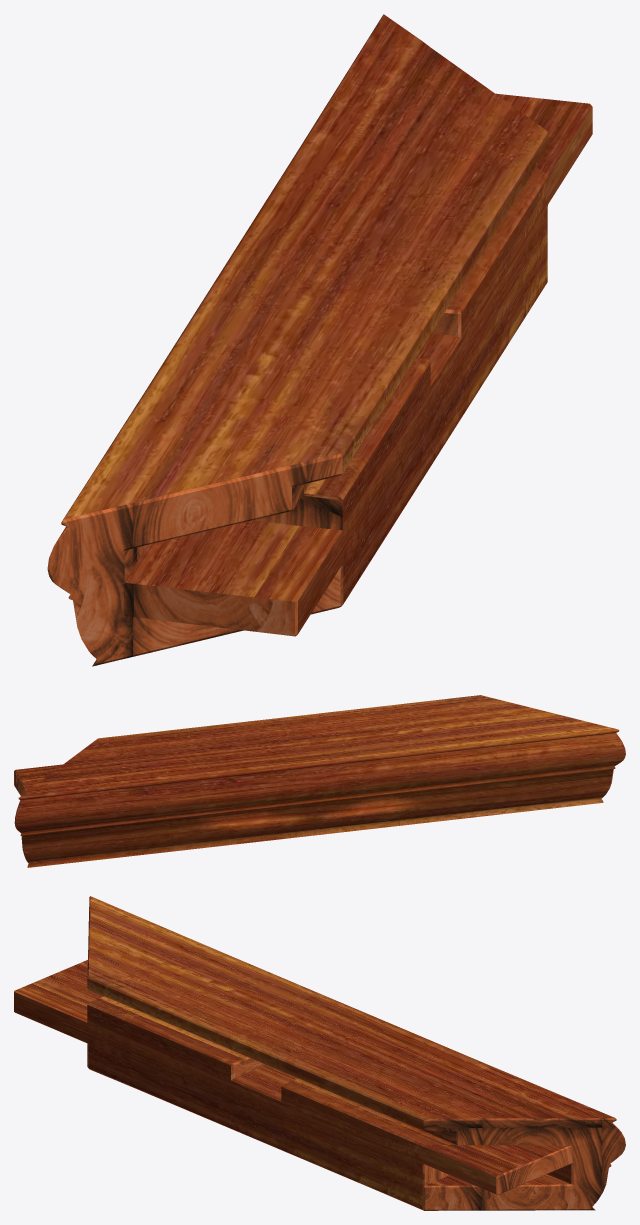
The model's file is changfangwu_J_D_changfangwu_D_J_dengmian_06zogjiao_01.FBX.
3 renders of one model, top to bottom at view 1: azimuth 30°, elevation 25°; view 2: azimuth 150°, elevation 25°; view 3: azimuth 270°, elevation 25°, orthographic. The views are drawn at different scales.
Parts seen in each view (by area): view 1: changfangwu_J_D_changfangwu_D_J_dengmian_06zogjiao_01; view 2: changfangwu_J_D_changfangwu_D_J_dengmian_06zogjiao_01; view 3: changfangwu_J_D_changfangwu_D_J_dengmian_06zogjiao_01.
Boxes of the visible parts, left/top/right/bottom form: changfangwu_J_D_changfangwu_D_J_dengmian_06zogjiao_01: left=47, top=14, right=592, bottom=666; changfangwu_J_D_changfangwu_D_J_dengmian_06zogjiao_01: left=14, top=695, right=625, bottom=867; changfangwu_J_D_changfangwu_D_J_dengmian_06zogjiao_01: left=14, top=896, right=625, bottom=1210.
Size of the model in its own units: 25.3 by 4.21 by 25.32.
2 materials, 2 textured.
